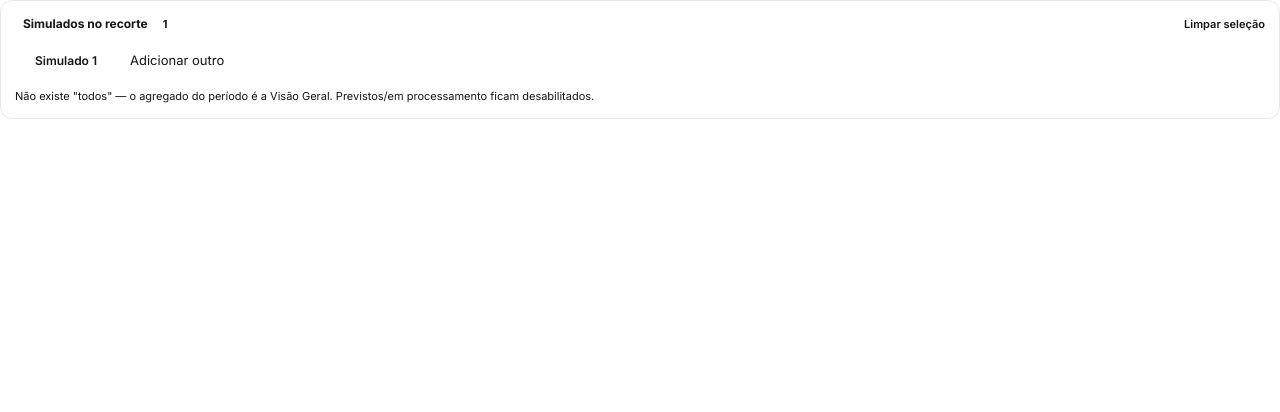
Test: SeletorSimulados › desabilita simulado previsto e em processamento, mostrando o motivo (§4.7.1, §4.10)
What coordinates should you click on to do the following:
click the button with aria-label "Escolher simulados"
I would click on:
 (177, 60)
Its box is top-left (130, 49), bottom-right (1257, 72).
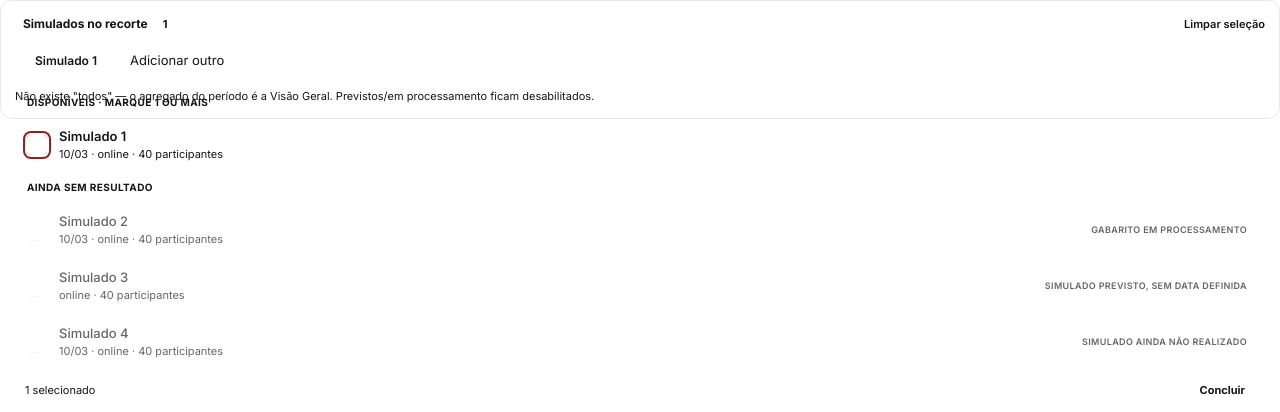
Now the checkbox named "Simulado 1 · 10/03 · online" is enabled, box top-left (27, 128), bottom-right (223, 161)
Now the checkbox named "Simulado 2 · 10/03 · online — Gabarito em processamento" is disabled, box top-left (27, 212), bottom-right (1247, 246)
Now the checkbox named "Simulado 3 · online — Simulado previsto, sem data definida" is disabled, box top-left (27, 268), bottom-right (1247, 302)
